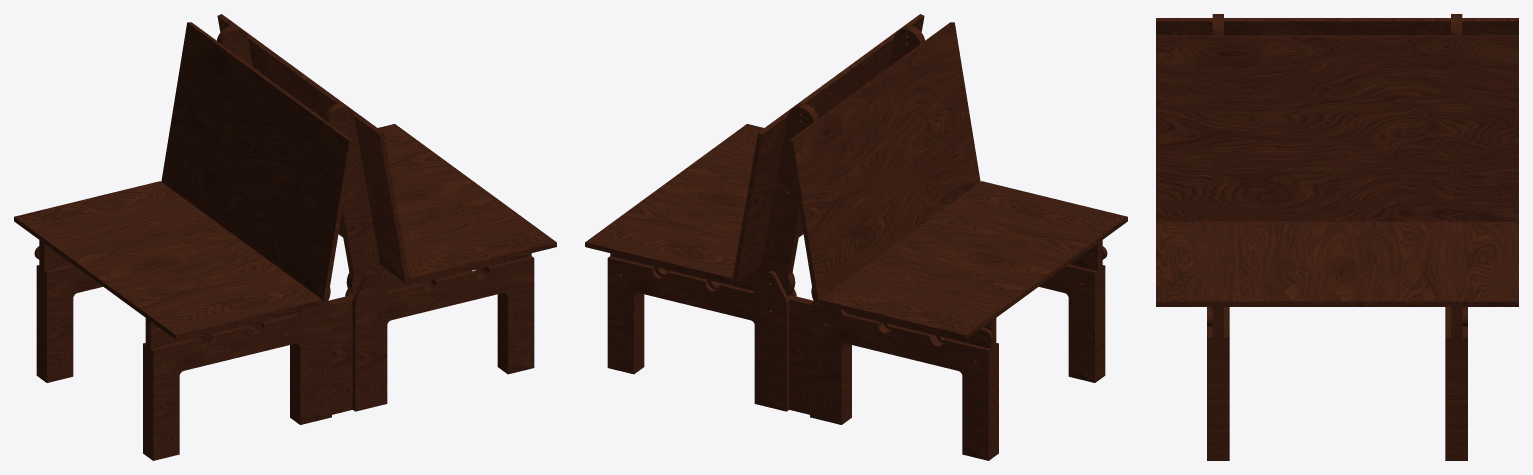
Rendered from BedFoldW.glb.
3 views of the same model, side by side, from view 1: azimuth 30°, elevation 25°; view 2: azimuth 150°, elevation 25°; view 3: azimuth 270°, elevation 25° (orthographic). The views are drawn at different scales.
Parts seen in each view (by area): view 1: mesh58_n3d2, mesh123_n3d2, mesh123_n3d, mesh94_n3d6, mesh93_n3d5, mesh57_n3d, mesh76_n3d4, mesh93_n3d3, mesh9_n3d3, mesh195_n3d4, mesh133_n3d2, mesh70_n3d (+7 smaller); view 2: mesh58_n3d2, mesh123_n3d2, mesh123_n3d, mesh93_n3d2, mesh94_n3d, mesh57_n3d, mesh152_n3d2, mesh38_n3d, mesh9_n3d2, mesh133_n3d2, mesh70_n3d, mesh69_n3d2 (+7 smaller); view 3: mesh58_n3d, mesh123_n3d, mesh57_n3d2, mesh133_n3d, mesh70_n3d2, mesh35_n3d2, mesh15_n3d3, mesh15_n3d, mesh107_n3d2, mesh163_n3d, mesh35_n3d3, mesh107_n3d4 (+2 smaller).
Boxes of the visible parts, x1,y1,x2,y2 form: mesh58_n3d2: (161, 22, 349, 302); mesh123_n3d2: (14, 181, 321, 335); mesh123_n3d: (378, 124, 556, 277); mesh94_n3d6: (355, 258, 534, 411); mesh93_n3d5: (153, 300, 331, 460); mesh57_n3d: (217, 16, 405, 282); mesh76_n3d4: (328, 107, 380, 275); mesh93_n3d3: (47, 266, 102, 382); mesh9_n3d3: (331, 299, 352, 414); mesh195_n3d4: (352, 253, 531, 295); mesh133_n3d2: (14, 217, 175, 339); mesh70_n3d: (217, 14, 383, 134); mesh58_n3d2: (792, 22, 980, 302); mesh123_n3d2: (820, 181, 1127, 335); mesh123_n3d: (585, 124, 763, 277); mesh93_n3d2: (607, 258, 786, 411); mesh94_n3d: (810, 300, 988, 460); mesh57_n3d: (736, 16, 924, 282); mesh152_n3d2: (945, 266, 1094, 382); mesh38_n3d: (755, 119, 799, 295); mesh9_n3d2: (789, 299, 810, 414); mesh133_n3d2: (966, 217, 1127, 339); mesh70_n3d: (758, 14, 924, 134); mesh69_n3d2: (788, 140, 818, 302); mesh58_n3d: (1156, 37, 1518, 221); mesh123_n3d: (1156, 221, 1518, 301); mesh57_n3d2: (1156, 21, 1518, 35); mesh133_n3d: (1156, 301, 1518, 306); mesh70_n3d2: (1156, 18, 1518, 21); mesh35_n3d2: (1456, 337, 1462, 460); mesh15_n3d3: (1212, 337, 1218, 460); mesh15_n3d: (1451, 337, 1456, 460); mesh107_n3d2: (1462, 337, 1467, 460); mesh163_n3d: (1445, 337, 1450, 460); mesh35_n3d3: (1218, 337, 1223, 460); mesh107_n3d4: (1224, 337, 1229, 460).
Bounding box in the file's own units: 1.27 × 0.9605 × 0.9253.
1 material, 1 textured.
